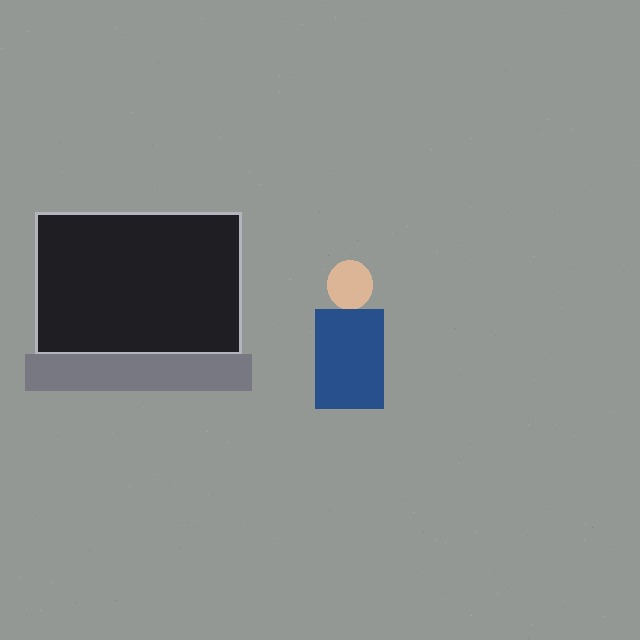laptop: (35, 212, 241, 390)
person: (282, 260, 417, 408)
